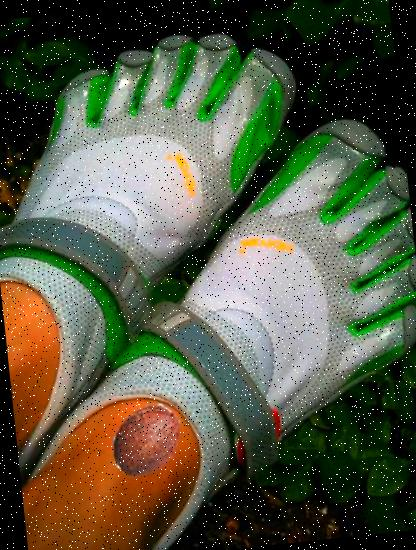Cocos: (104, 398, 189, 483)
